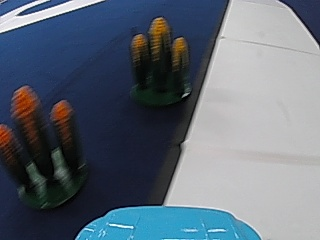corn: (5, 81, 90, 209), (126, 13, 195, 108)
